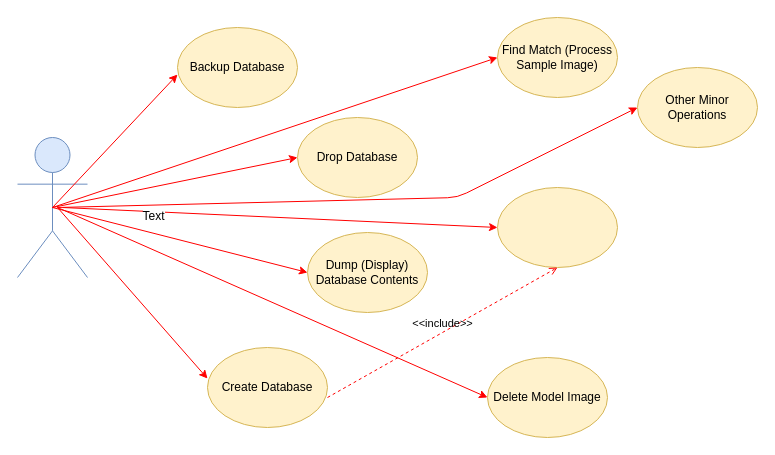
The diagram is 775 pixels wide and 455 high, and some of its shapes have lost their labels. Each missing label, with the centre of its shape:
"Process Model Image" goes at (x=557, y=227).
"Researcher" goes at (x=52, y=207).
